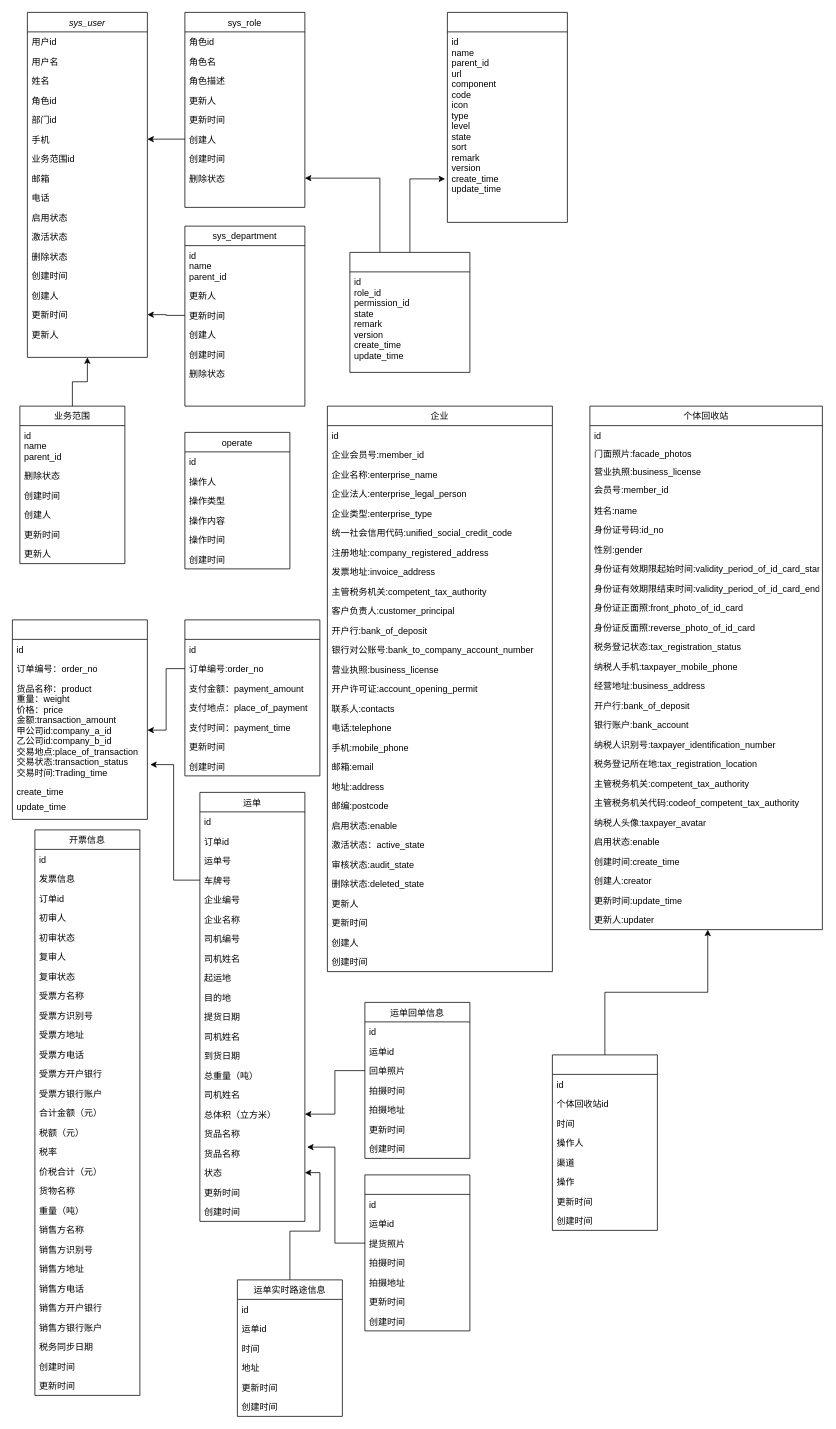
Image size: 836x1429. Some labels were removed from this diagram. The shapes that lost their labels are listed below. From the top down, each one's box as (x1, y1, x2, y2) in pixels, then its label:
(447, 12, 567, 222): sys_permission
(349, 252, 470, 372): sys_role_permission
(184, 619, 320, 776): 定位付信息
(12, 619, 147, 819): 订单
(552, 1054, 657, 1230): 个体回收站税登信息
(364, 1174, 470, 1331): 运单提货信息
